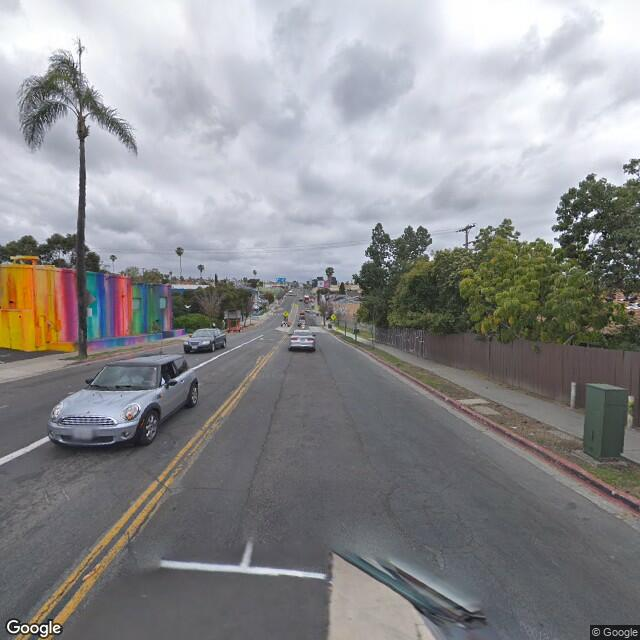road line: (52, 443, 206, 598), (227, 359, 269, 393)
